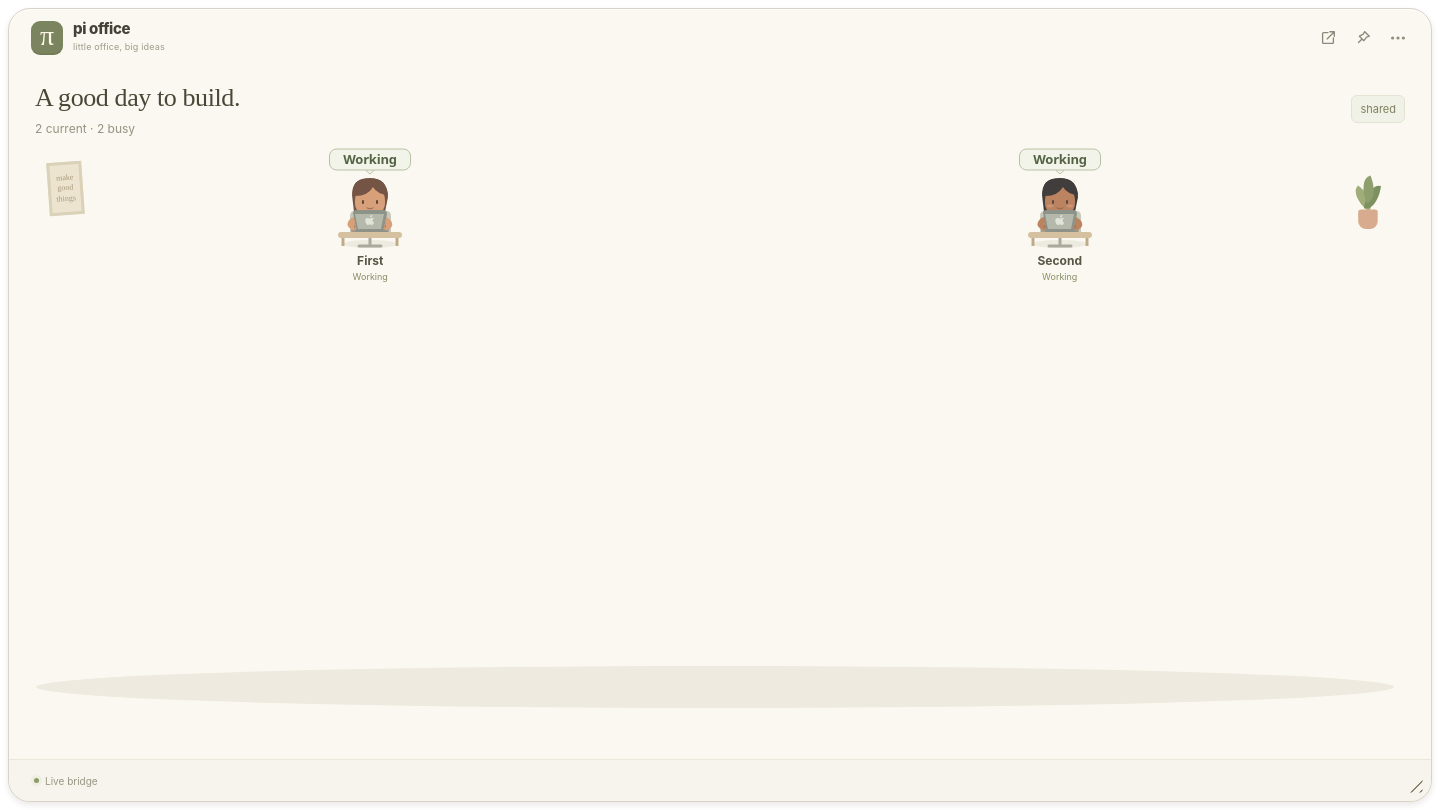
Test: companion renderer › retains distinct identities for equal raw agent IDs in different sessions
Click the button with aria-label "Second, Working, shared": (1060, 216) [996, 144, 1124, 288]
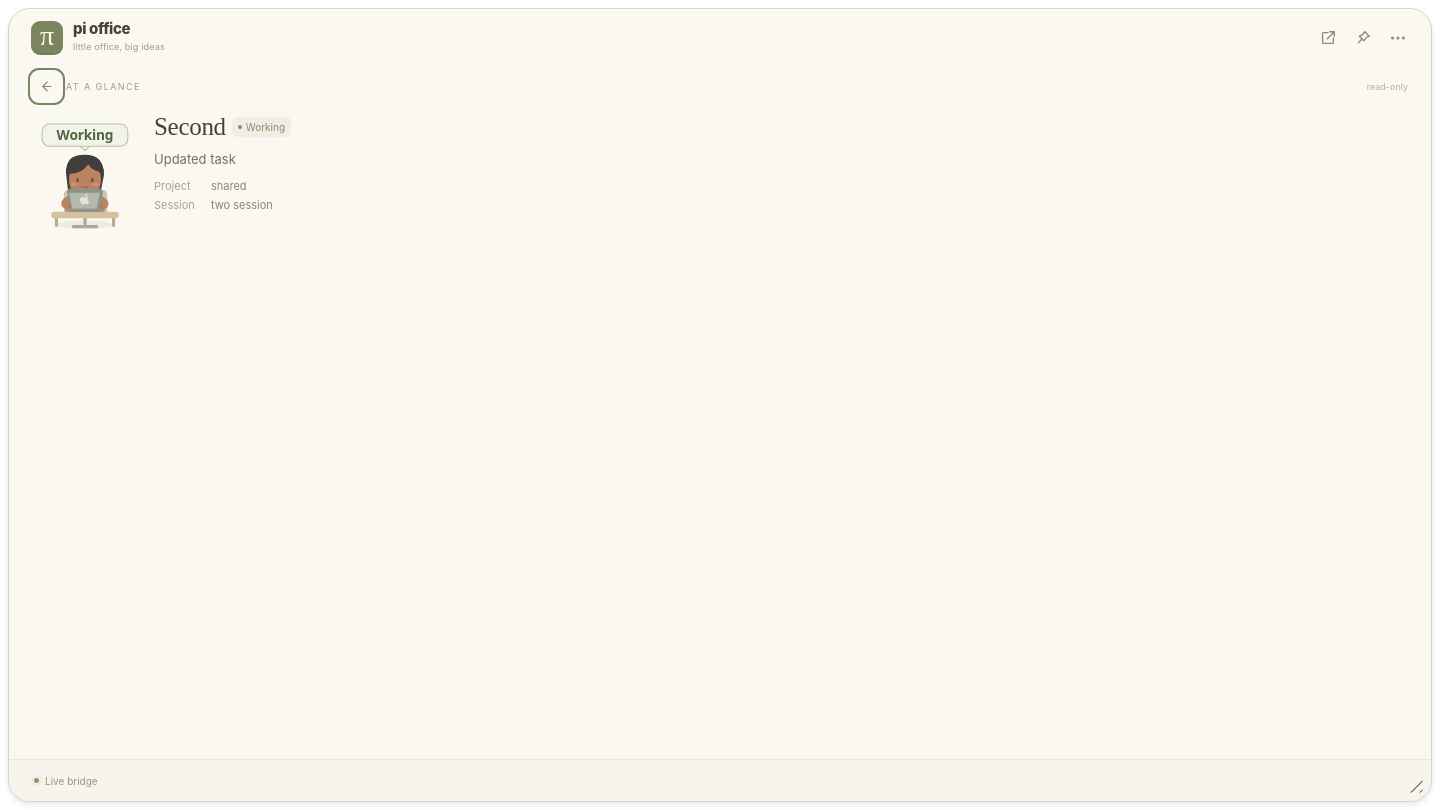
Check: the text "Updated task" is shown, box [154, 151, 236, 167]
